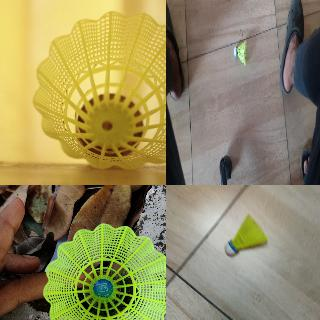shuttlecock: (32, 10, 165, 170), (41, 226, 165, 319), (225, 213, 267, 254), (234, 40, 246, 66)
